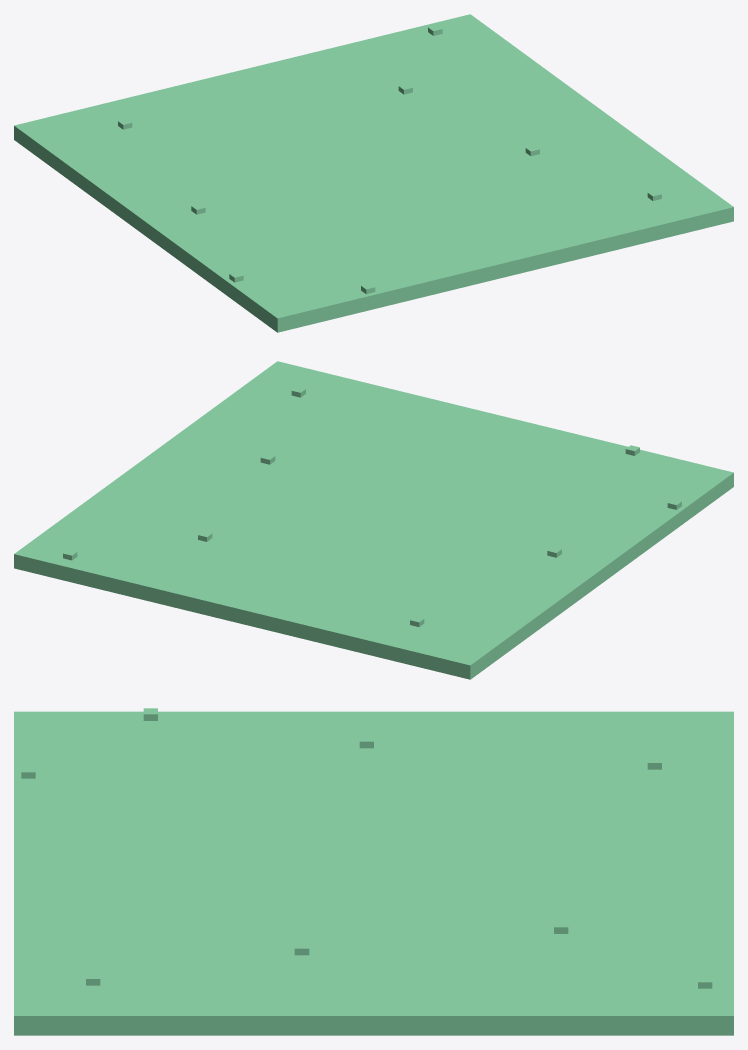
File: Background_A_floor_02.FBX
3 views of the same model, one above another, from view 1: azimuth 30°, elevation 25°; view 2: azimuth 150°, elevation 25°; view 3: azimuth 270°, elevation 25° (orthographic). The views are drawn at different scales.
Parts seen in each view (by area): view 1: Load_A-22; view 2: Load_A-22; view 3: Load_A-22.
Part boxes in pixels (box(x1,y1,x2,y2)): Load_A-22: box(14, 14, 733, 332); Load_A-22: box(14, 361, 733, 679); Load_A-22: box(14, 708, 733, 1035).
Bounding box in the file's own units: 10 × 0.4 × 10.
Materials: 1 (1 with a texture image).
